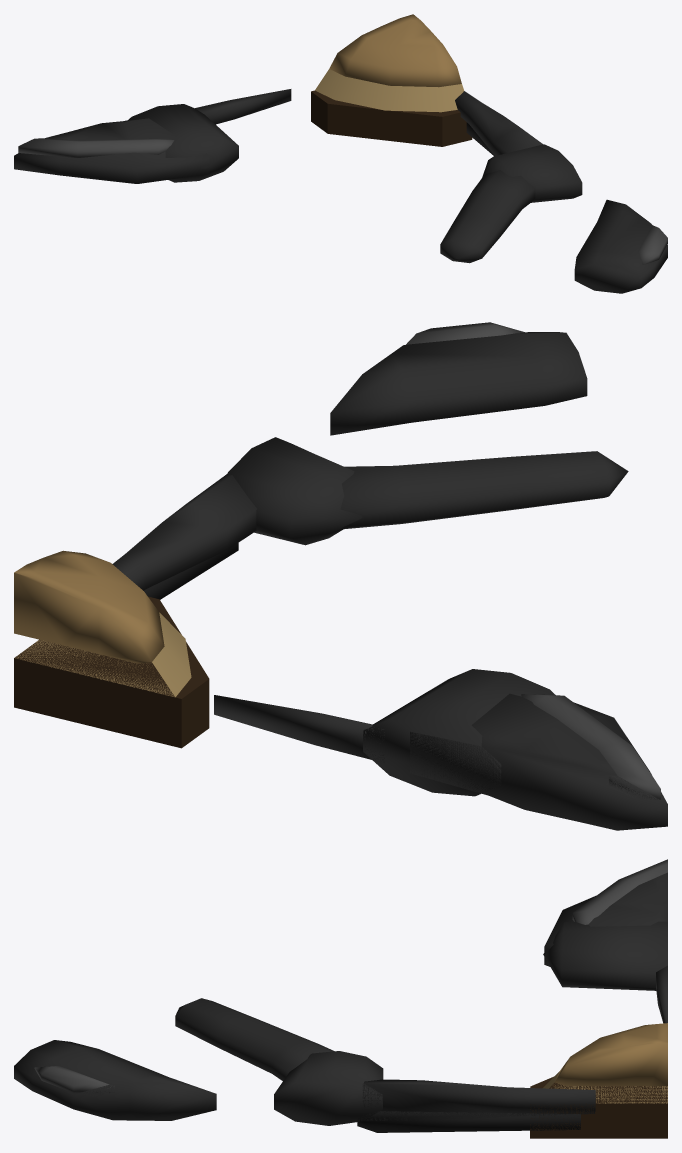
Rendered from newsh-hash-39-f7.glb.
The picture shows the model from 3 angles, top to bottom: view 1: azimuth 30°, elevation 25°; view 2: azimuth 150°, elevation 25°; view 3: azimuth 270°, elevation 25°; orthographic projection. The views are drawn at different scales.
Visible parts, largest first — view 1: newsh-hash-39-f7; view 2: newsh-hash-39-f7; view 3: newsh-hash-39-f7.
Boxes of the visible parts, left/top/right/bottom form: newsh-hash-39-f7: left=14, top=14, right=667, bottom=293; newsh-hash-39-f7: left=14, top=322, right=667, bottom=830; newsh-hash-39-f7: left=14, top=859, right=667, bottom=1138.
Size of the model in its own units: 0.7629 by 0.1503 by 0.9269.
